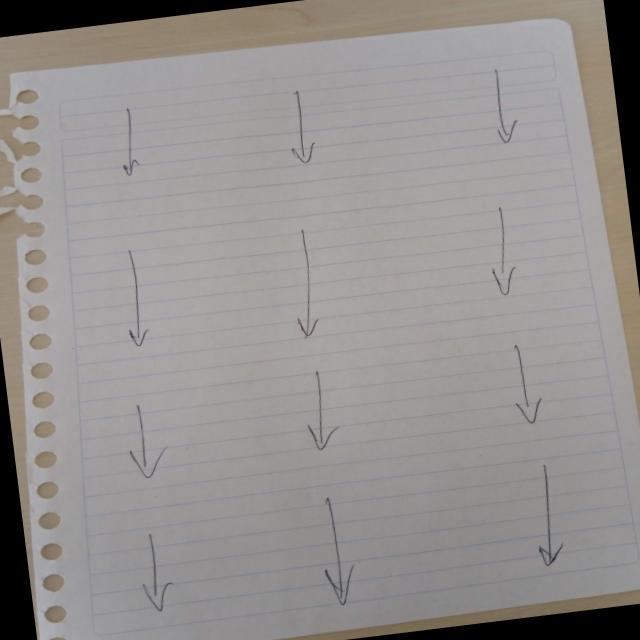arrow_line_down: (304, 493, 364, 611), (496, 336, 562, 432), (280, 223, 330, 343), (116, 528, 180, 618), (109, 242, 160, 354), (475, 58, 532, 154), (113, 399, 178, 481), (288, 367, 347, 455), (528, 458, 570, 574), (476, 203, 524, 300), (275, 88, 322, 166), (102, 105, 151, 178)
